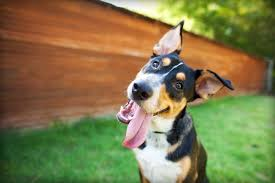dog: (97, 16, 243, 139)
